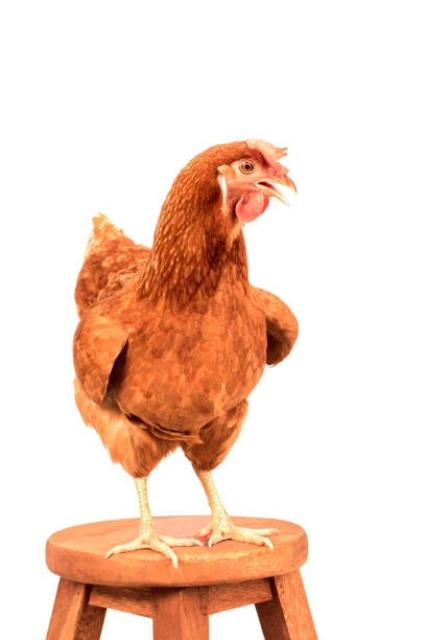Chicken: (69, 134, 302, 573)
